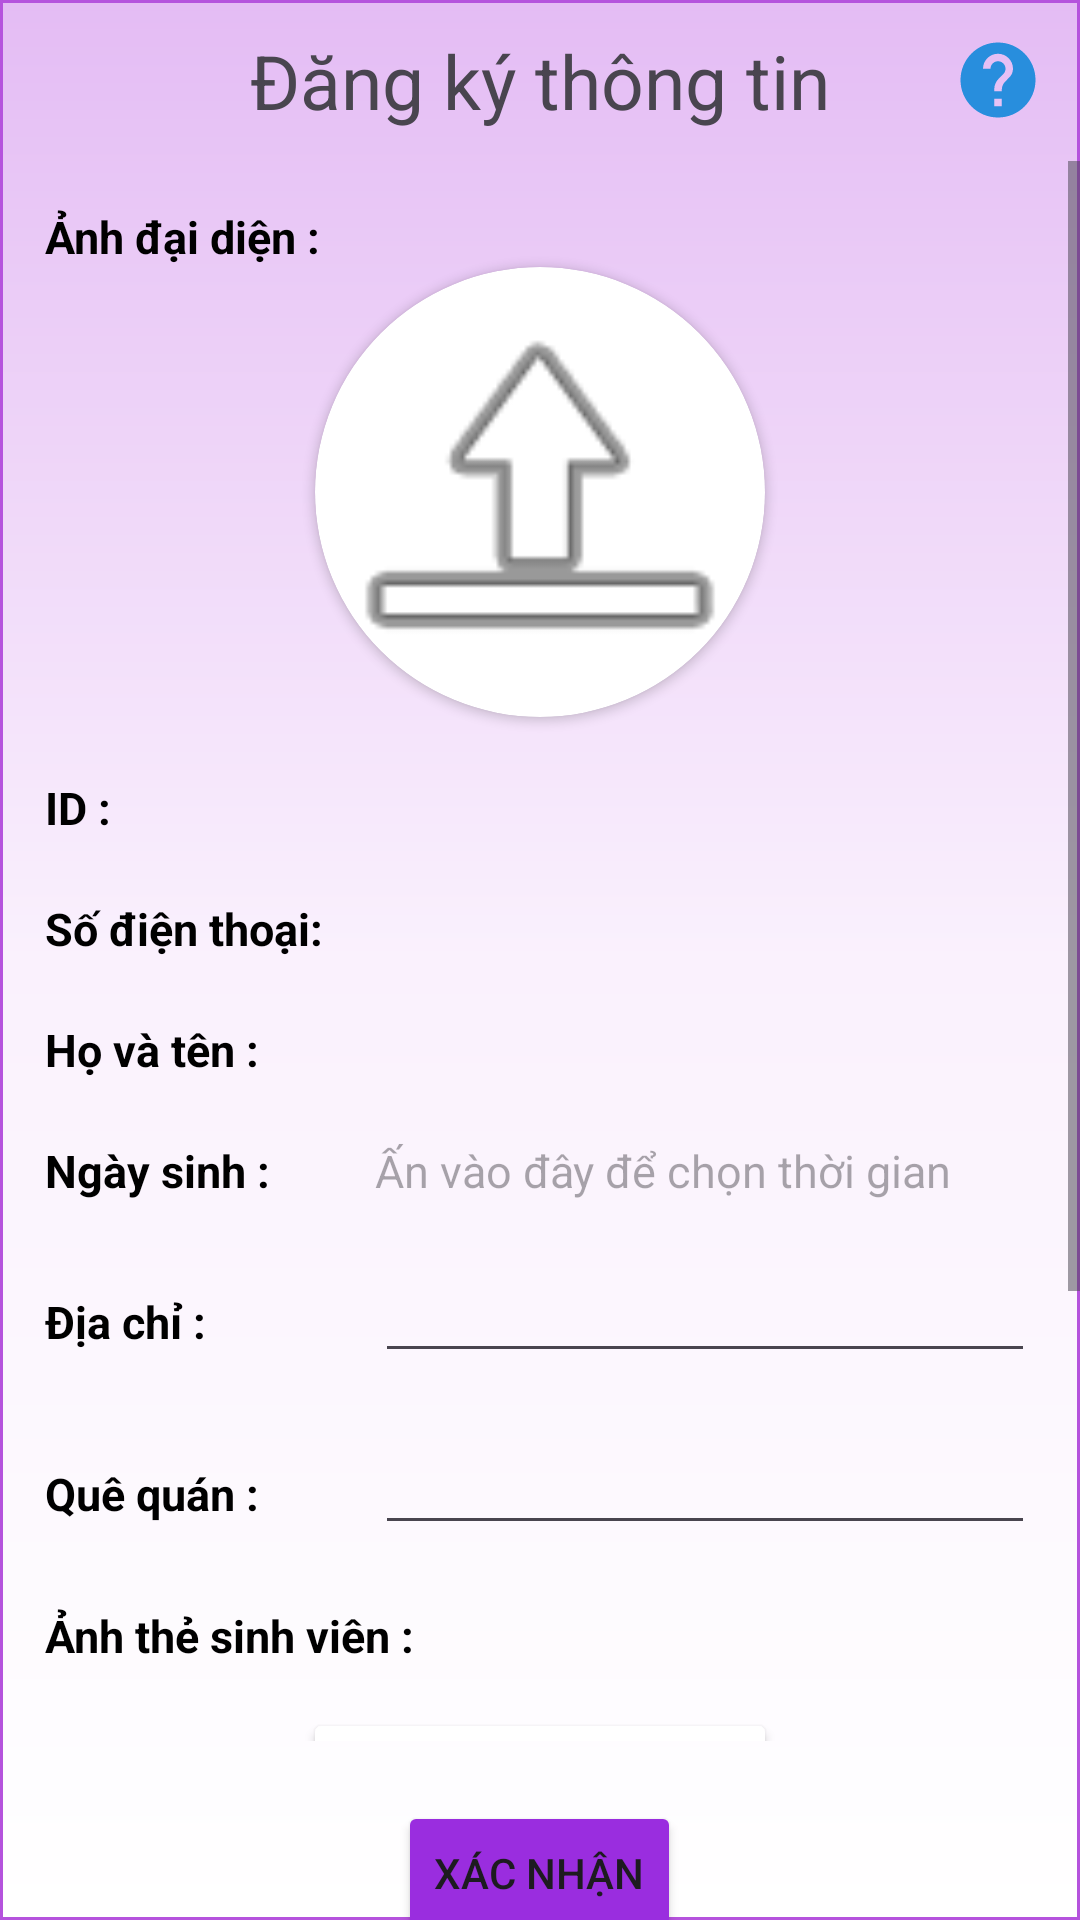

Where to tap for icons on this 1080*1920 app screen, as (x=x, y=y):
help: (x=998, y=80)
